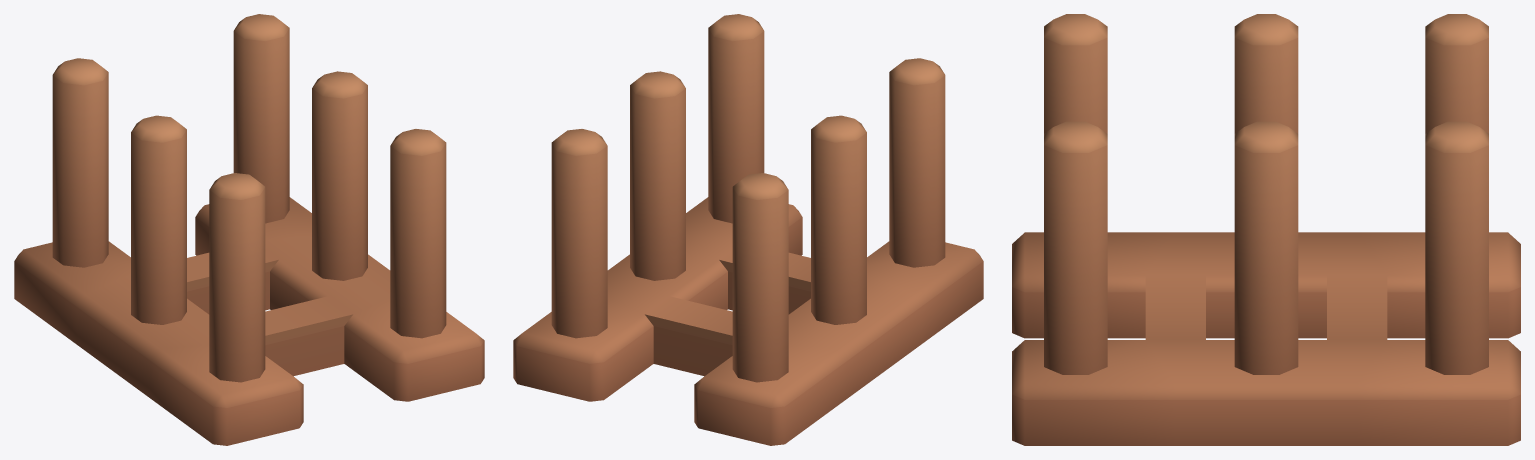
Rendered from Dishrack.glb.
3 views of the same model, side by side, from view 1: azimuth 30°, elevation 25°; view 2: azimuth 150°, elevation 25°; view 3: azimuth 270°, elevation 25° (orthographic). The views are drawn at different scales.
Parts seen in each view (by area): view 1: dishrack; view 2: dishrack; view 3: dishrack.
Boxes of the visible parts, x1,y1,x2,y2 form: dishrack: (14, 14, 484, 445); dishrack: (513, 14, 983, 445); dishrack: (1012, 14, 1520, 445).
Size of the model in its own units: 0.6 by 0.5 by 0.8.
Materials: 1 (1 with a texture image).
